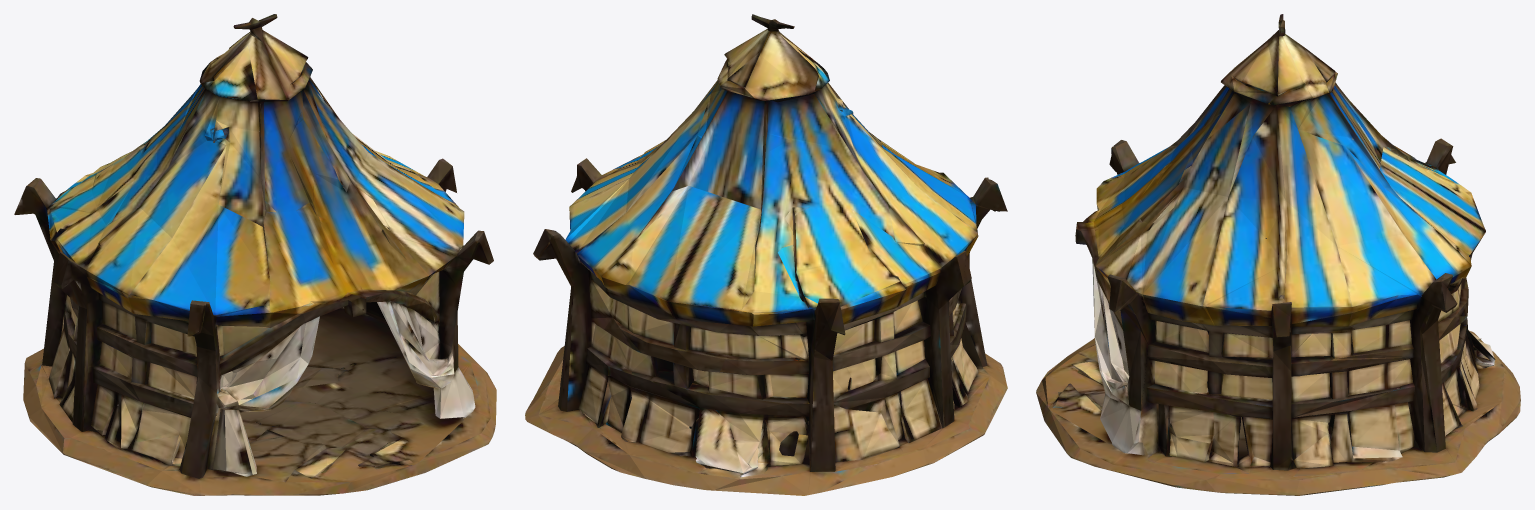
The model's file is war_command_tent_01.glb.
3 views of the same model, side by side, from view 1: azimuth 30°, elevation 25°; view 2: azimuth 150°, elevation 25°; view 3: azimuth 270°, elevation 25° (orthographic).
Parts seen in each view (by area): view 1: geometry_0; view 2: geometry_0; view 3: geometry_0.
Part boxes in pixels (x1=…): geometry_0: x1=14, y1=14, x2=496, y2=495; geometry_0: x1=525, y1=14, x2=1007, y2=495; geometry_0: x1=1036, y1=14, x2=1520, y2=495.
Bounding box in the file's own units: 0.9645 × 0.8545 × 0.9989.
1 material, 1 textured.
